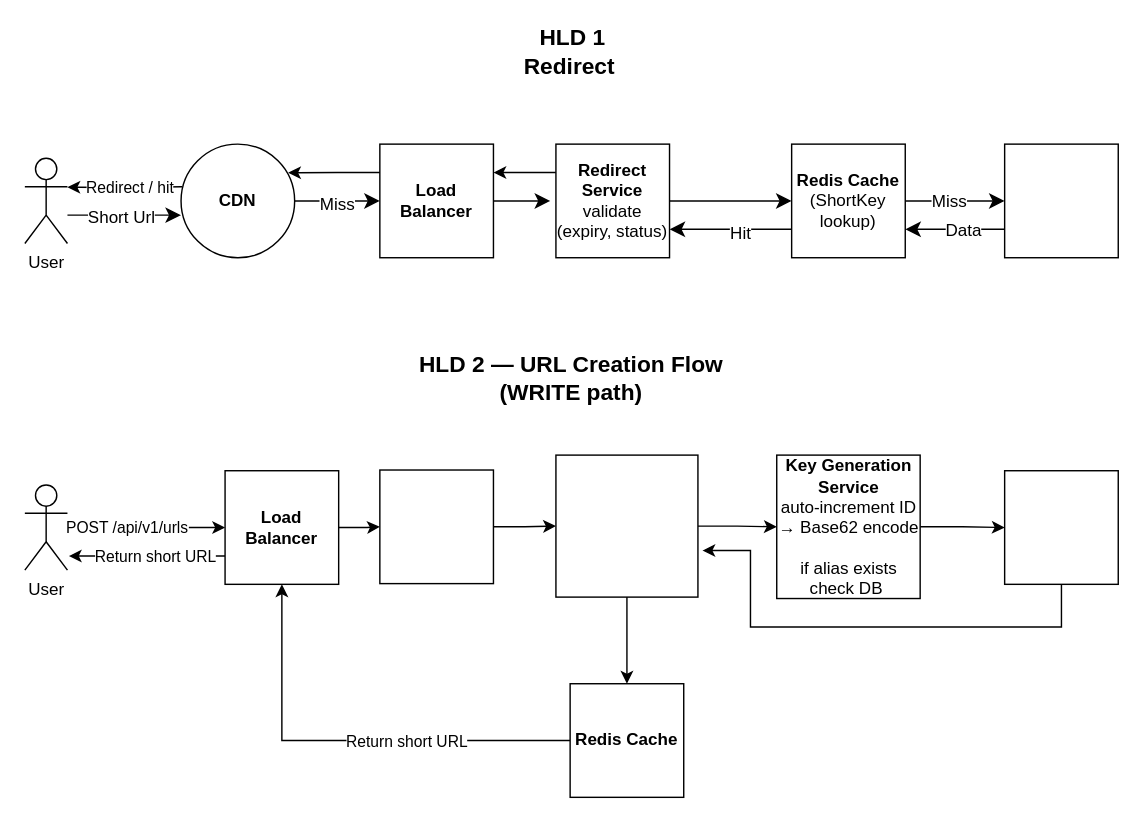
Some shapes in this 1143 by 822 pixel diagram are drawn without their labels. The shapes that lost their labels are listed below. From the top down, each one's box as (x1, y1, x2, y2) in pixels, then its label:
(1003, 143, 1118, 258): PostgreSQL DB (Urls Table)
(378, 469, 493, 584): Auth Service validate JWT get user_id
(555, 454, 698, 597): URL Service check: valid URL format alias rules rate limits
(1003, 469, 1118, 584): Database (PostgreSQL)
